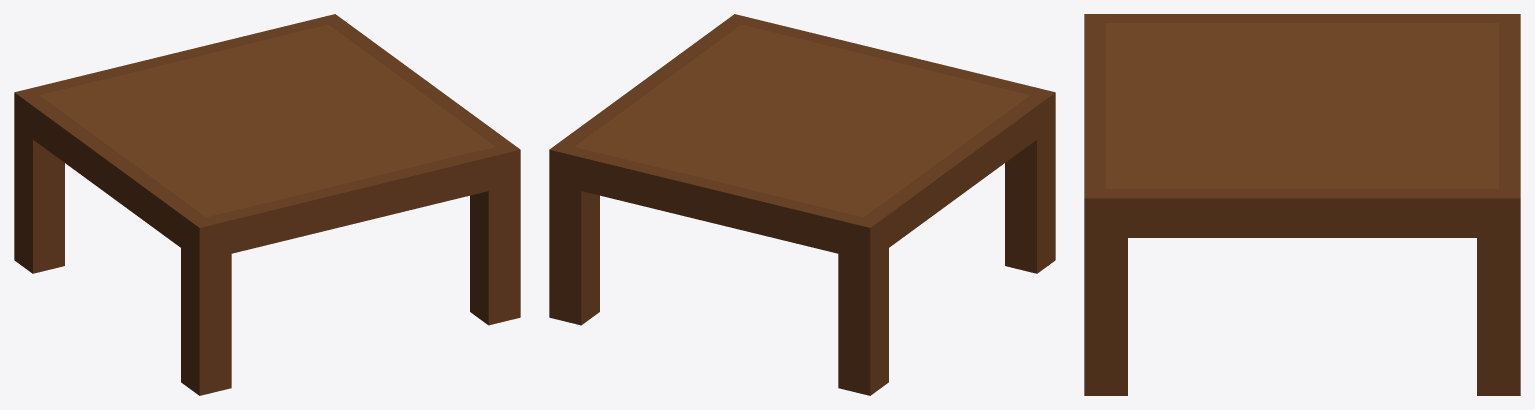
File: table_big_wood.dae
3 renders of one model, left to right at view 1: azimuth 30°, elevation 25°; view 2: azimuth 150°, elevation 25°; view 3: azimuth 270°, elevation 25°, orthographic. The views are drawn at different scales.
Parts seen in each view (by area): view 1: table_big_wood; view 2: table_big_wood; view 3: table_big_wood.
Boxes of the visible parts, x1,y1,x2,y2 form: table_big_wood: [14, 14, 520, 395]; table_big_wood: [549, 14, 1055, 395]; table_big_wood: [1084, 14, 1520, 395].
Size of the model in its own units: 2 by 1 by 2.
1 material, 1 textured.
